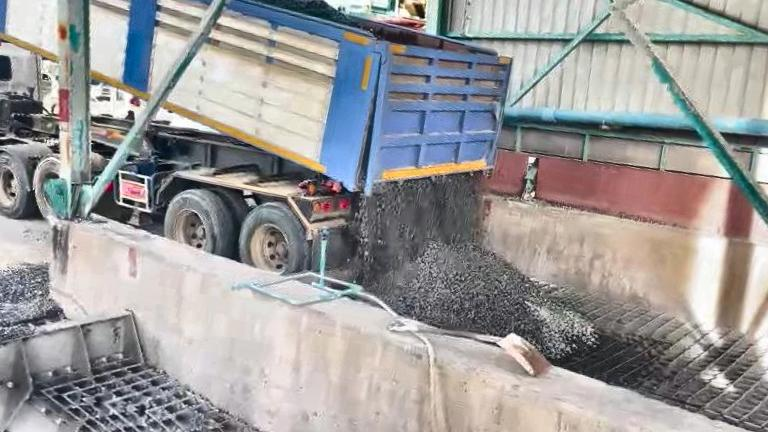gravel: (357, 174, 597, 359), (0, 264, 62, 353), (237, 0, 361, 27)
